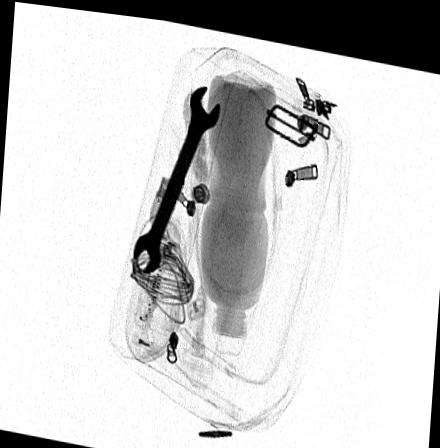Wrench: (132, 79, 221, 271)
